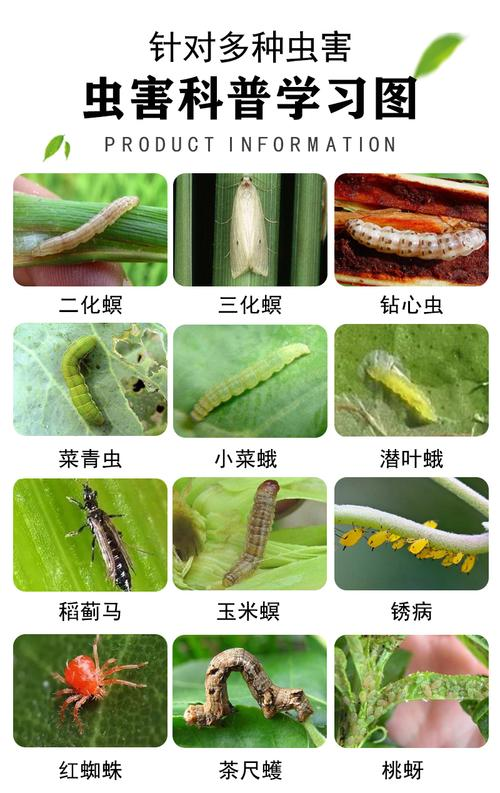Crambidae: (218, 177, 289, 284)
